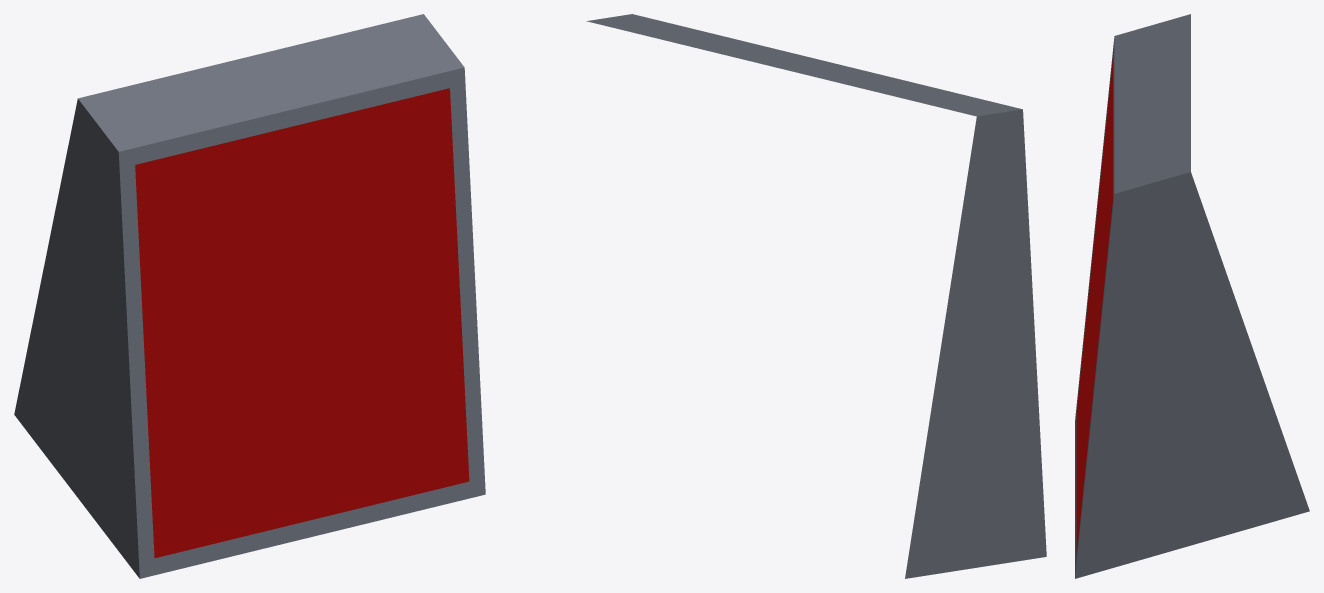
Rendered from RedButton.glb.
3 views of the same model, side by side, from view 1: azimuth 30°, elevation 25°; view 2: azimuth 150°, elevation 25°; view 3: azimuth 270°, elevation 25° (orthographic). The views are drawn at different scales.
Visible parts, largest first — view 1: RedButton; view 2: RedButton; view 3: RedButton.
Boxes of the visible parts, <box> form: RedButton: <box>14,14,485,578</box>; RedButton: <box>586,14,1046,578</box>; RedButton: <box>1075,14,1309,578</box>.
Size of what is drawn, in the model's own units: 0.0723 by 0.0869 by 0.0455.
Materials: 2 (2 with a texture image).
